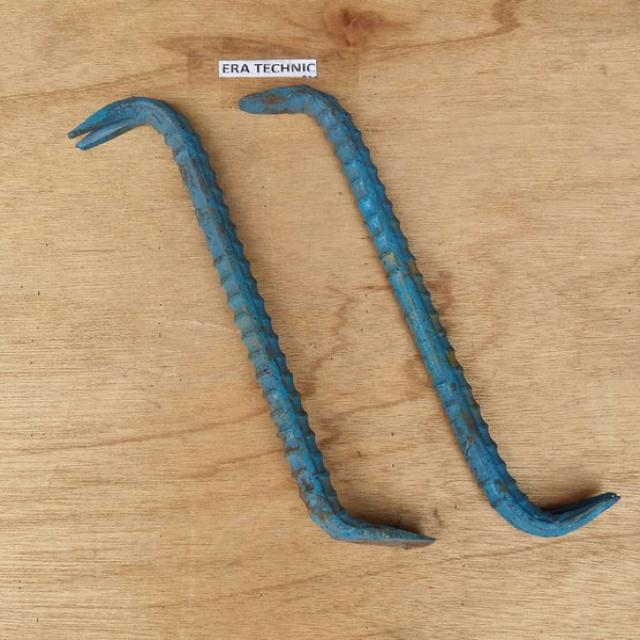Linggis: (229, 73, 627, 545), (68, 86, 446, 556)
